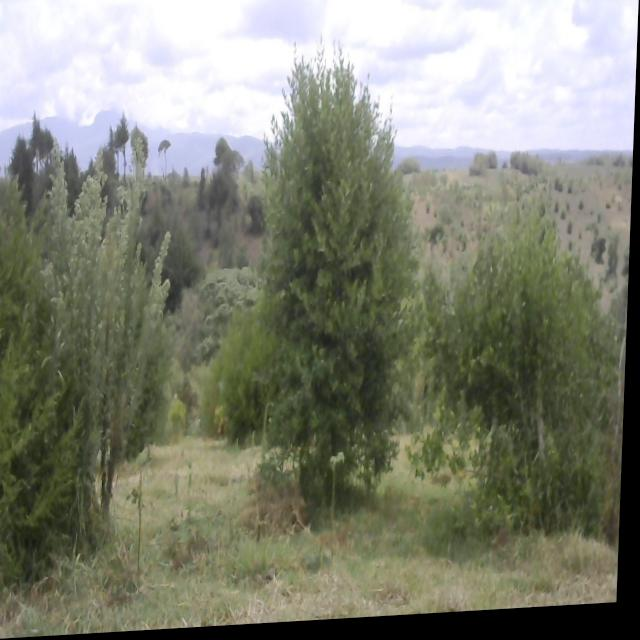cedrus: (253, 33, 439, 512)
